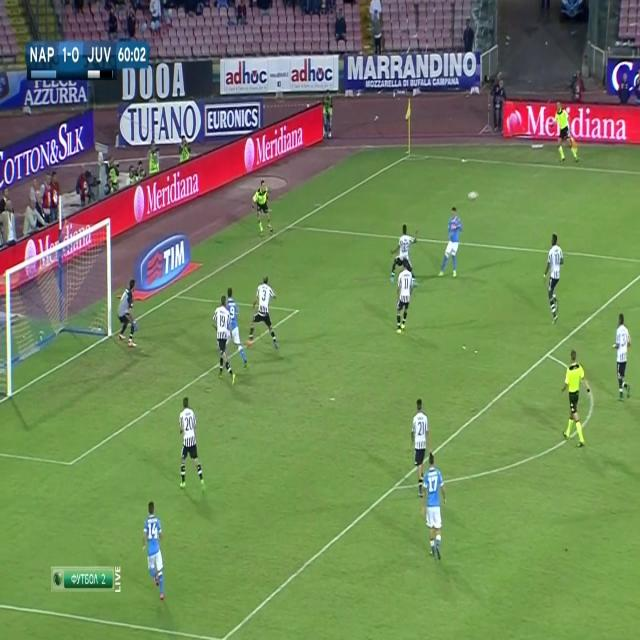Ball: (466, 187, 479, 202)
Goalkeeper: (116, 275, 140, 354)
Player: (420, 449, 447, 565), (177, 394, 206, 494), (246, 277, 282, 356), (142, 500, 167, 604), (211, 292, 238, 388), (435, 204, 465, 282), (542, 233, 566, 328), (409, 397, 431, 498), (609, 311, 633, 402), (388, 221, 421, 285), (226, 286, 249, 373), (392, 260, 415, 338)
Referee: (561, 348, 592, 452), (554, 101, 580, 165), (251, 178, 275, 240)
